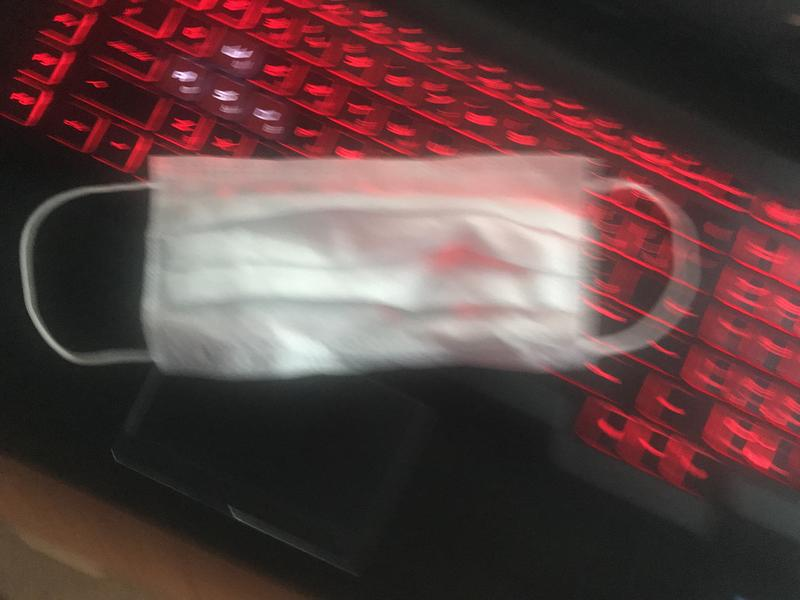medical_mask: (20, 157, 688, 369)
